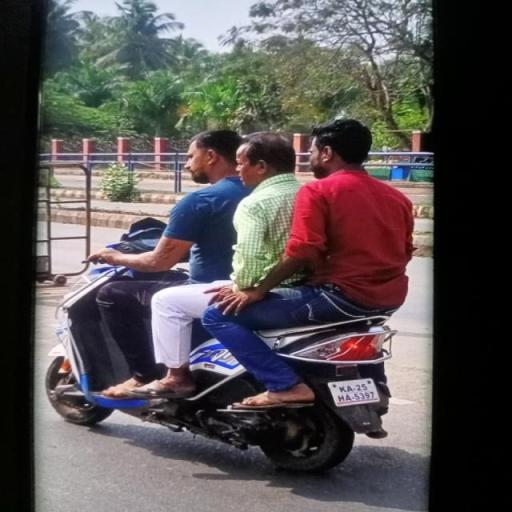tripple riding: (82, 117, 420, 310)
